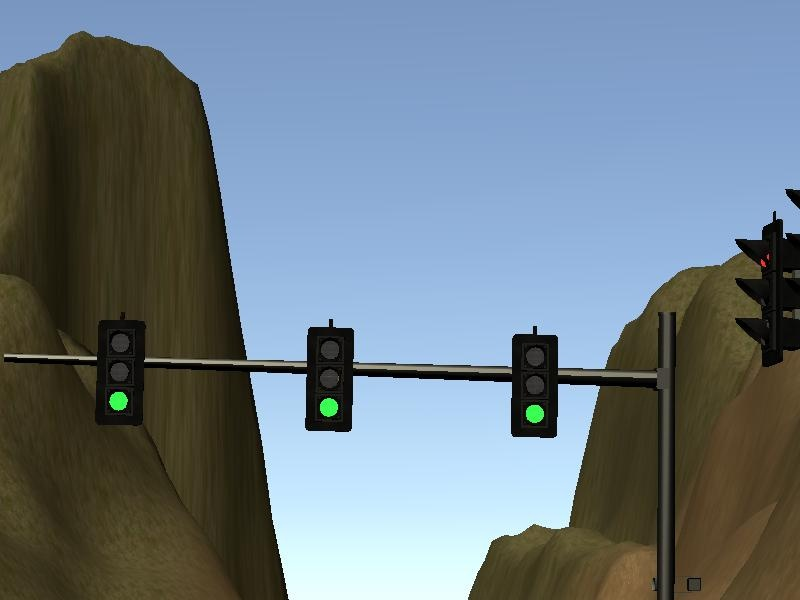traffic_light_green: (80, 309, 658, 440)
